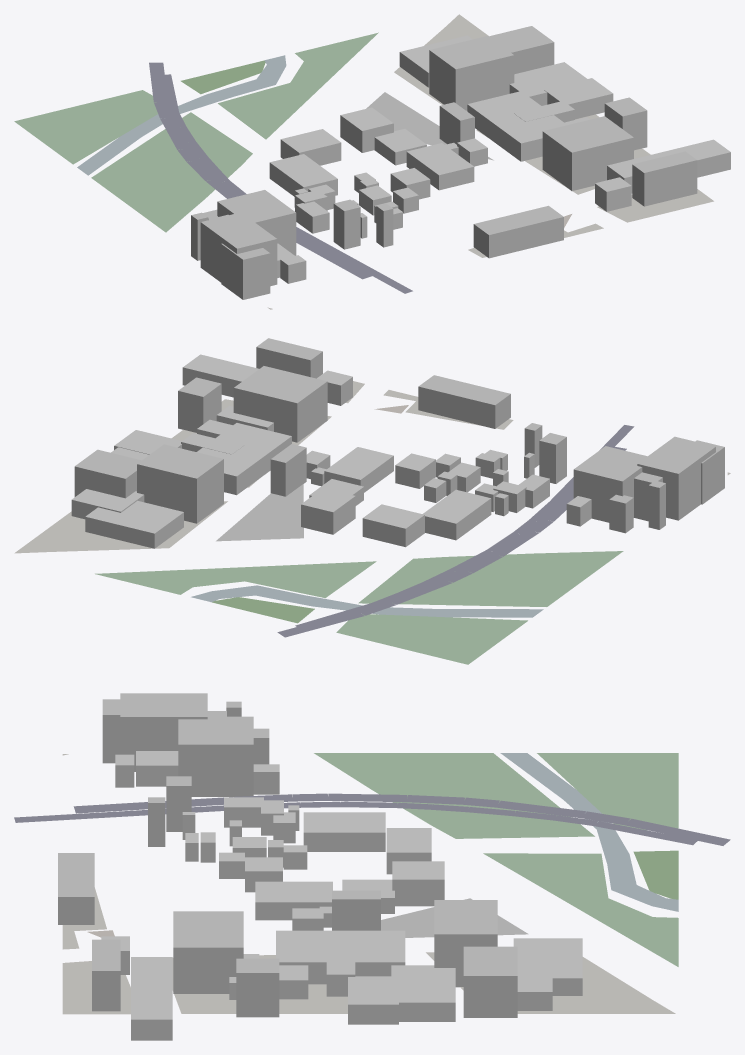
The model's file is 121_113_mid.glb.
3 views of the same model, one above another, from view 1: azimuth 30°, elevation 25°; view 2: azimuth 150°, elevation 25°; view 3: azimuth 270°, elevation 25° (orthographic). The views are drawn at different scales.
Size of the model in its own units: 563 by 49.3 by 582.
